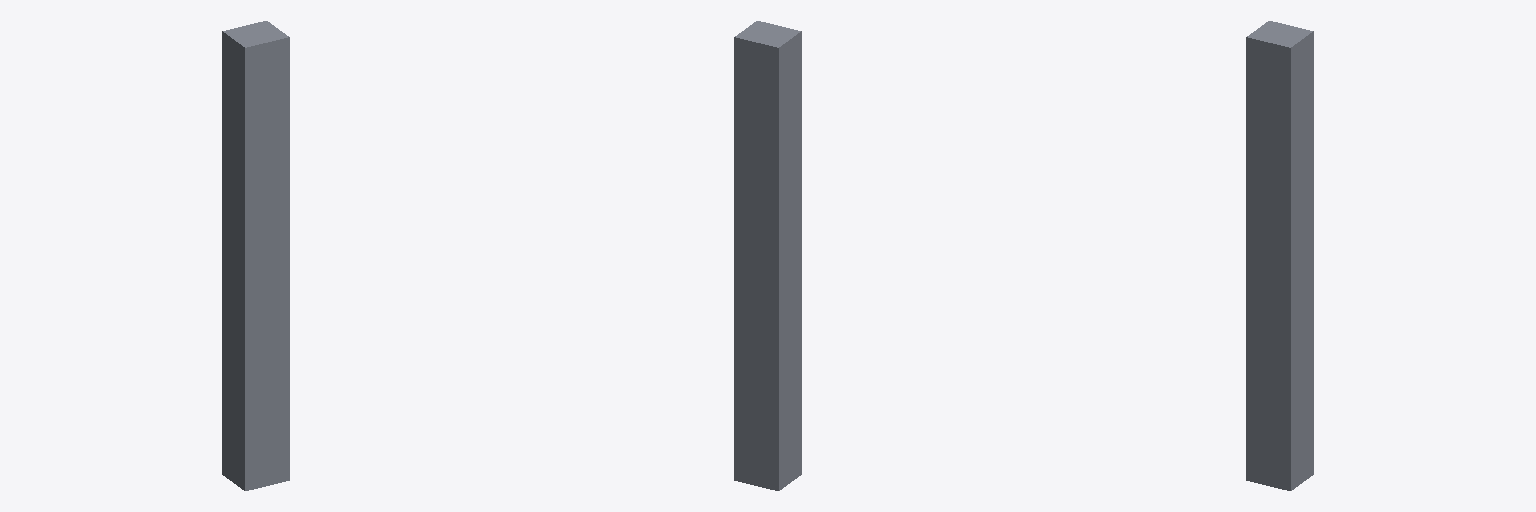
The robot description file, URDF, robot "artmanip_knife_000":
<?xml version='1.0' encoding='utf-8'?>
<robot name="artmanip_knife_000"><link name="link_0"><inertial><mass value="0.02770368245376016" /><inertia ixx="4.344862905421764e-05" iyy="4.354669704564891e-05" izz="8.427144225391448e-07" ixy="0" ixz="0" iyz="0" /></inertial><visual><geometry><box size="0.014274189899276384 0.012699362818771003 0.13659698028479578" /></geometry><material name="link_0_color"><color rgba=".58 .60 .64 1" /></material></visual><collision><geometry><box size="0.014274189899276384 0.012699362818771003 0.13659698028479578" /></geometry></collision></link><link name="link_1"><inertial><mass value="0.006" /><inertia ixx="4.545e-07" iyy="5e-07" izz="5.45e-08" ixy="0" ixz="0" iyz="0" /></inertial><visual><geometry><mesh filename="slider-shoulder.obj" /></geometry><material name="link_1_color"><color rgba=".12 .13 .15 1" /></material></visual><collision><geometry><mesh filename="slider-shoulder.obj" /></geometry></collision></link><joint name="slider" type="prismatic"><parent link="link_0" /><child link="link_1" /><origin xyz="0.00031646088788041217 0.007849681409385502 0.01232548875795441" /><axis xyz="0 0 1" /><limit lower="-0.03267458688196273" upper="0.017325413118037272" effort="100" velocity="1" /><dynamics damping="1000" friction="0.001" /></joint></robot>

--- Render facts (derived) ---
3 views of the same robot in one strip: view 1: azimuth 30°, elevation 25°; view 2: azimuth 150°, elevation 25°; view 3: azimuth 330°, elevation 25° (orthographic).
Robot: artmanip_knife_000 — 2 links, 1 joints (1 prismatic); root link link_0; default pose: all joints at 0.
Visible links, largest first — view 1: link_0; view 2: link_0; view 3: link_0.
Boxes of the visible links, <box> form: link_0: <box>222,21,289,490</box>; link_0: <box>734,21,801,490</box>; link_0: <box>1246,21,1313,490</box>.
Size in the robot's own frame: 0.0143 by 0.0127 by 0.1366 metres.
Meshes: 1 distinct files referenced, 0 mesh visuals loaded (none loaded); not drawn: 1 (reference not matched to a file when rendering).
